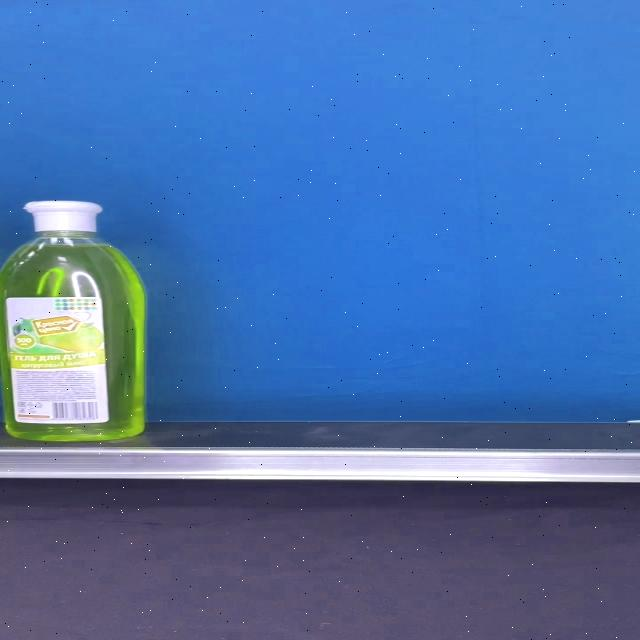Bottle: (0, 200, 145, 441)
Cap: (22, 200, 102, 232)
